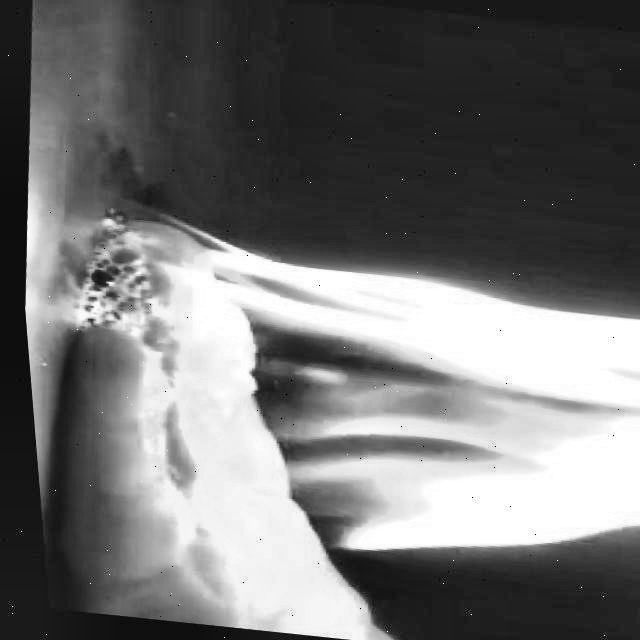Fire: (82, 218, 640, 594)
